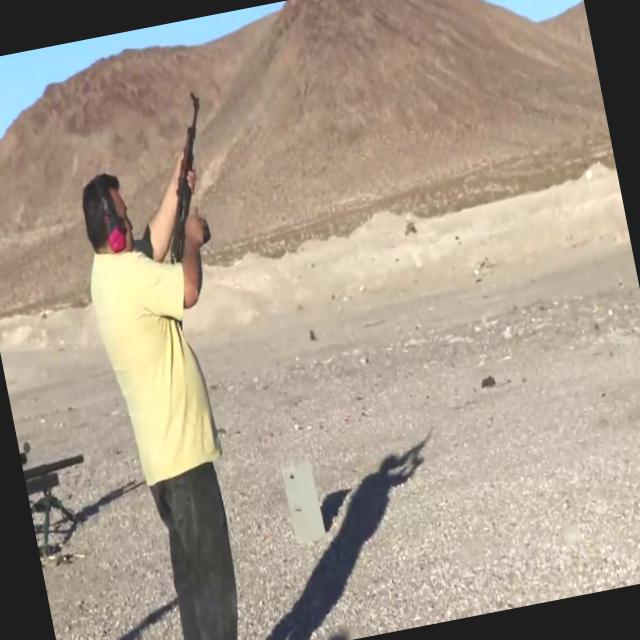long weapon: (128, 76, 250, 294)
